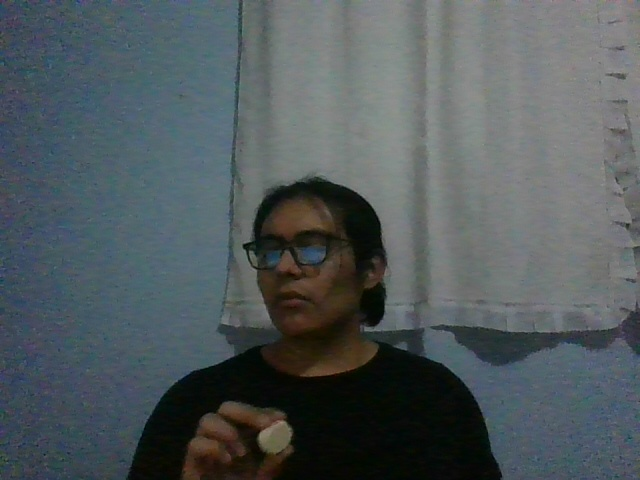goma: (257, 420, 293, 455)
